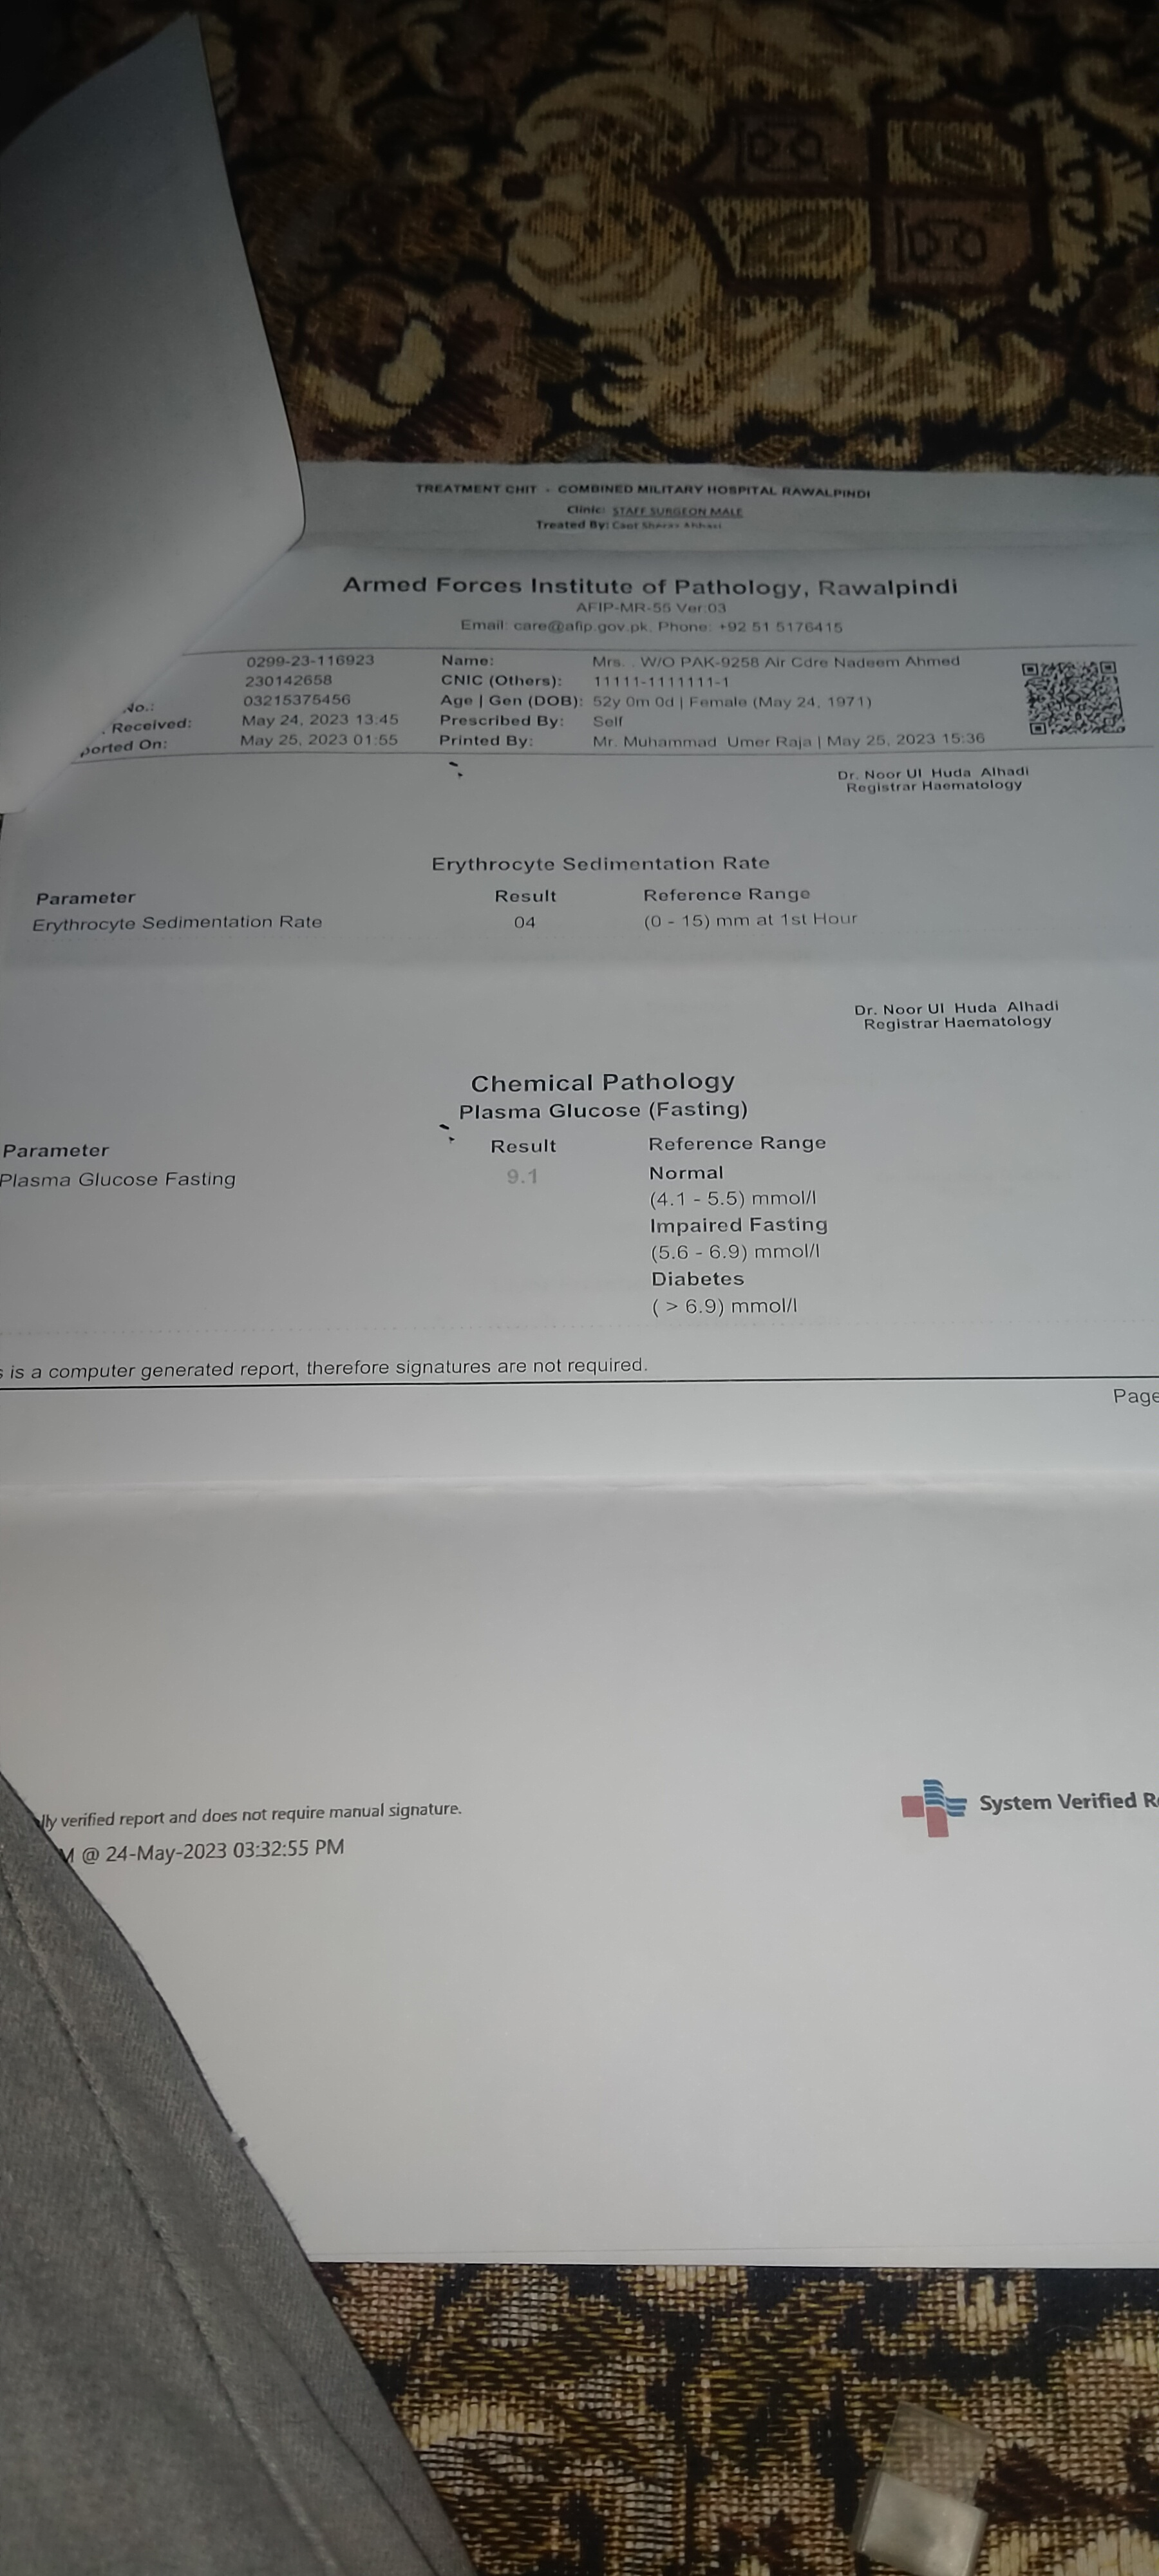report: (7, 828, 1159, 974)
